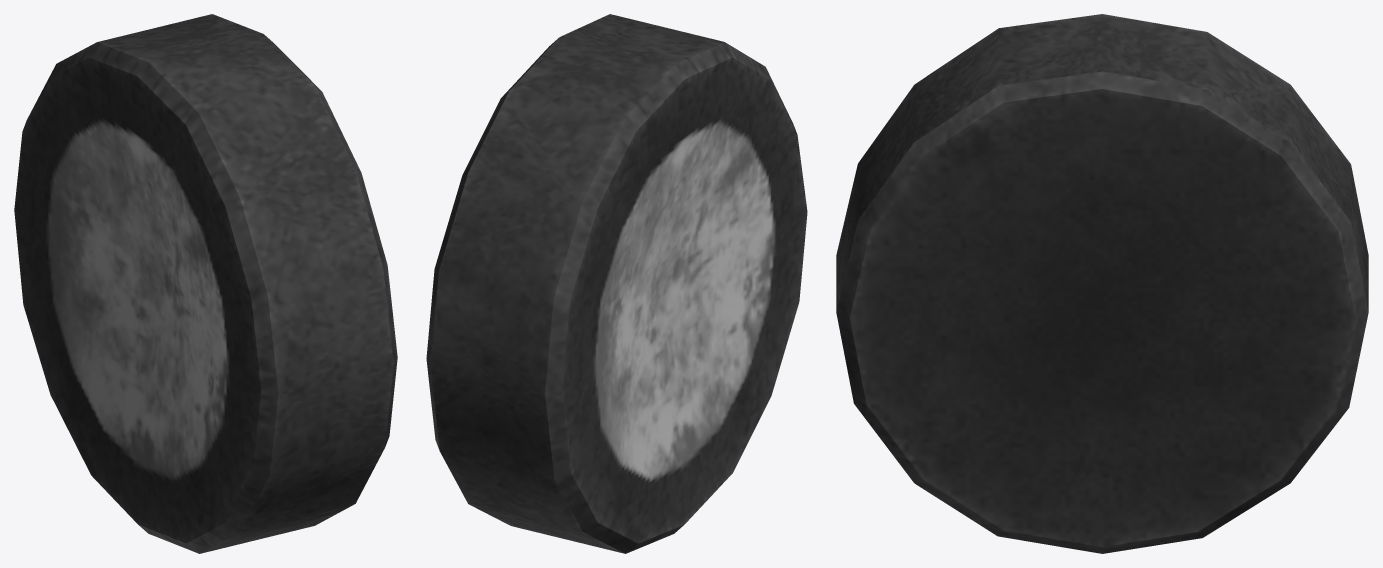
File: G_LP_Wheel_01.FBX
3 views of the same model, side by side, from view 1: azimuth 30°, elevation 25°; view 2: azimuth 150°, elevation 25°; view 3: azimuth 270°, elevation 25° (orthographic). The views are drawn at different scales.
Visible parts, largest first — view 1: Car; view 2: Car; view 3: Car.
Boxes of the visible parts, <box> form: Car: <box>14,14,397,553</box>; Car: <box>426,14,807,553</box>; Car: <box>836,14,1368,553</box>.
Bounding box in the file's own units: 101 × 335 × 335.
Materials: 1 (1 with a texture image).
